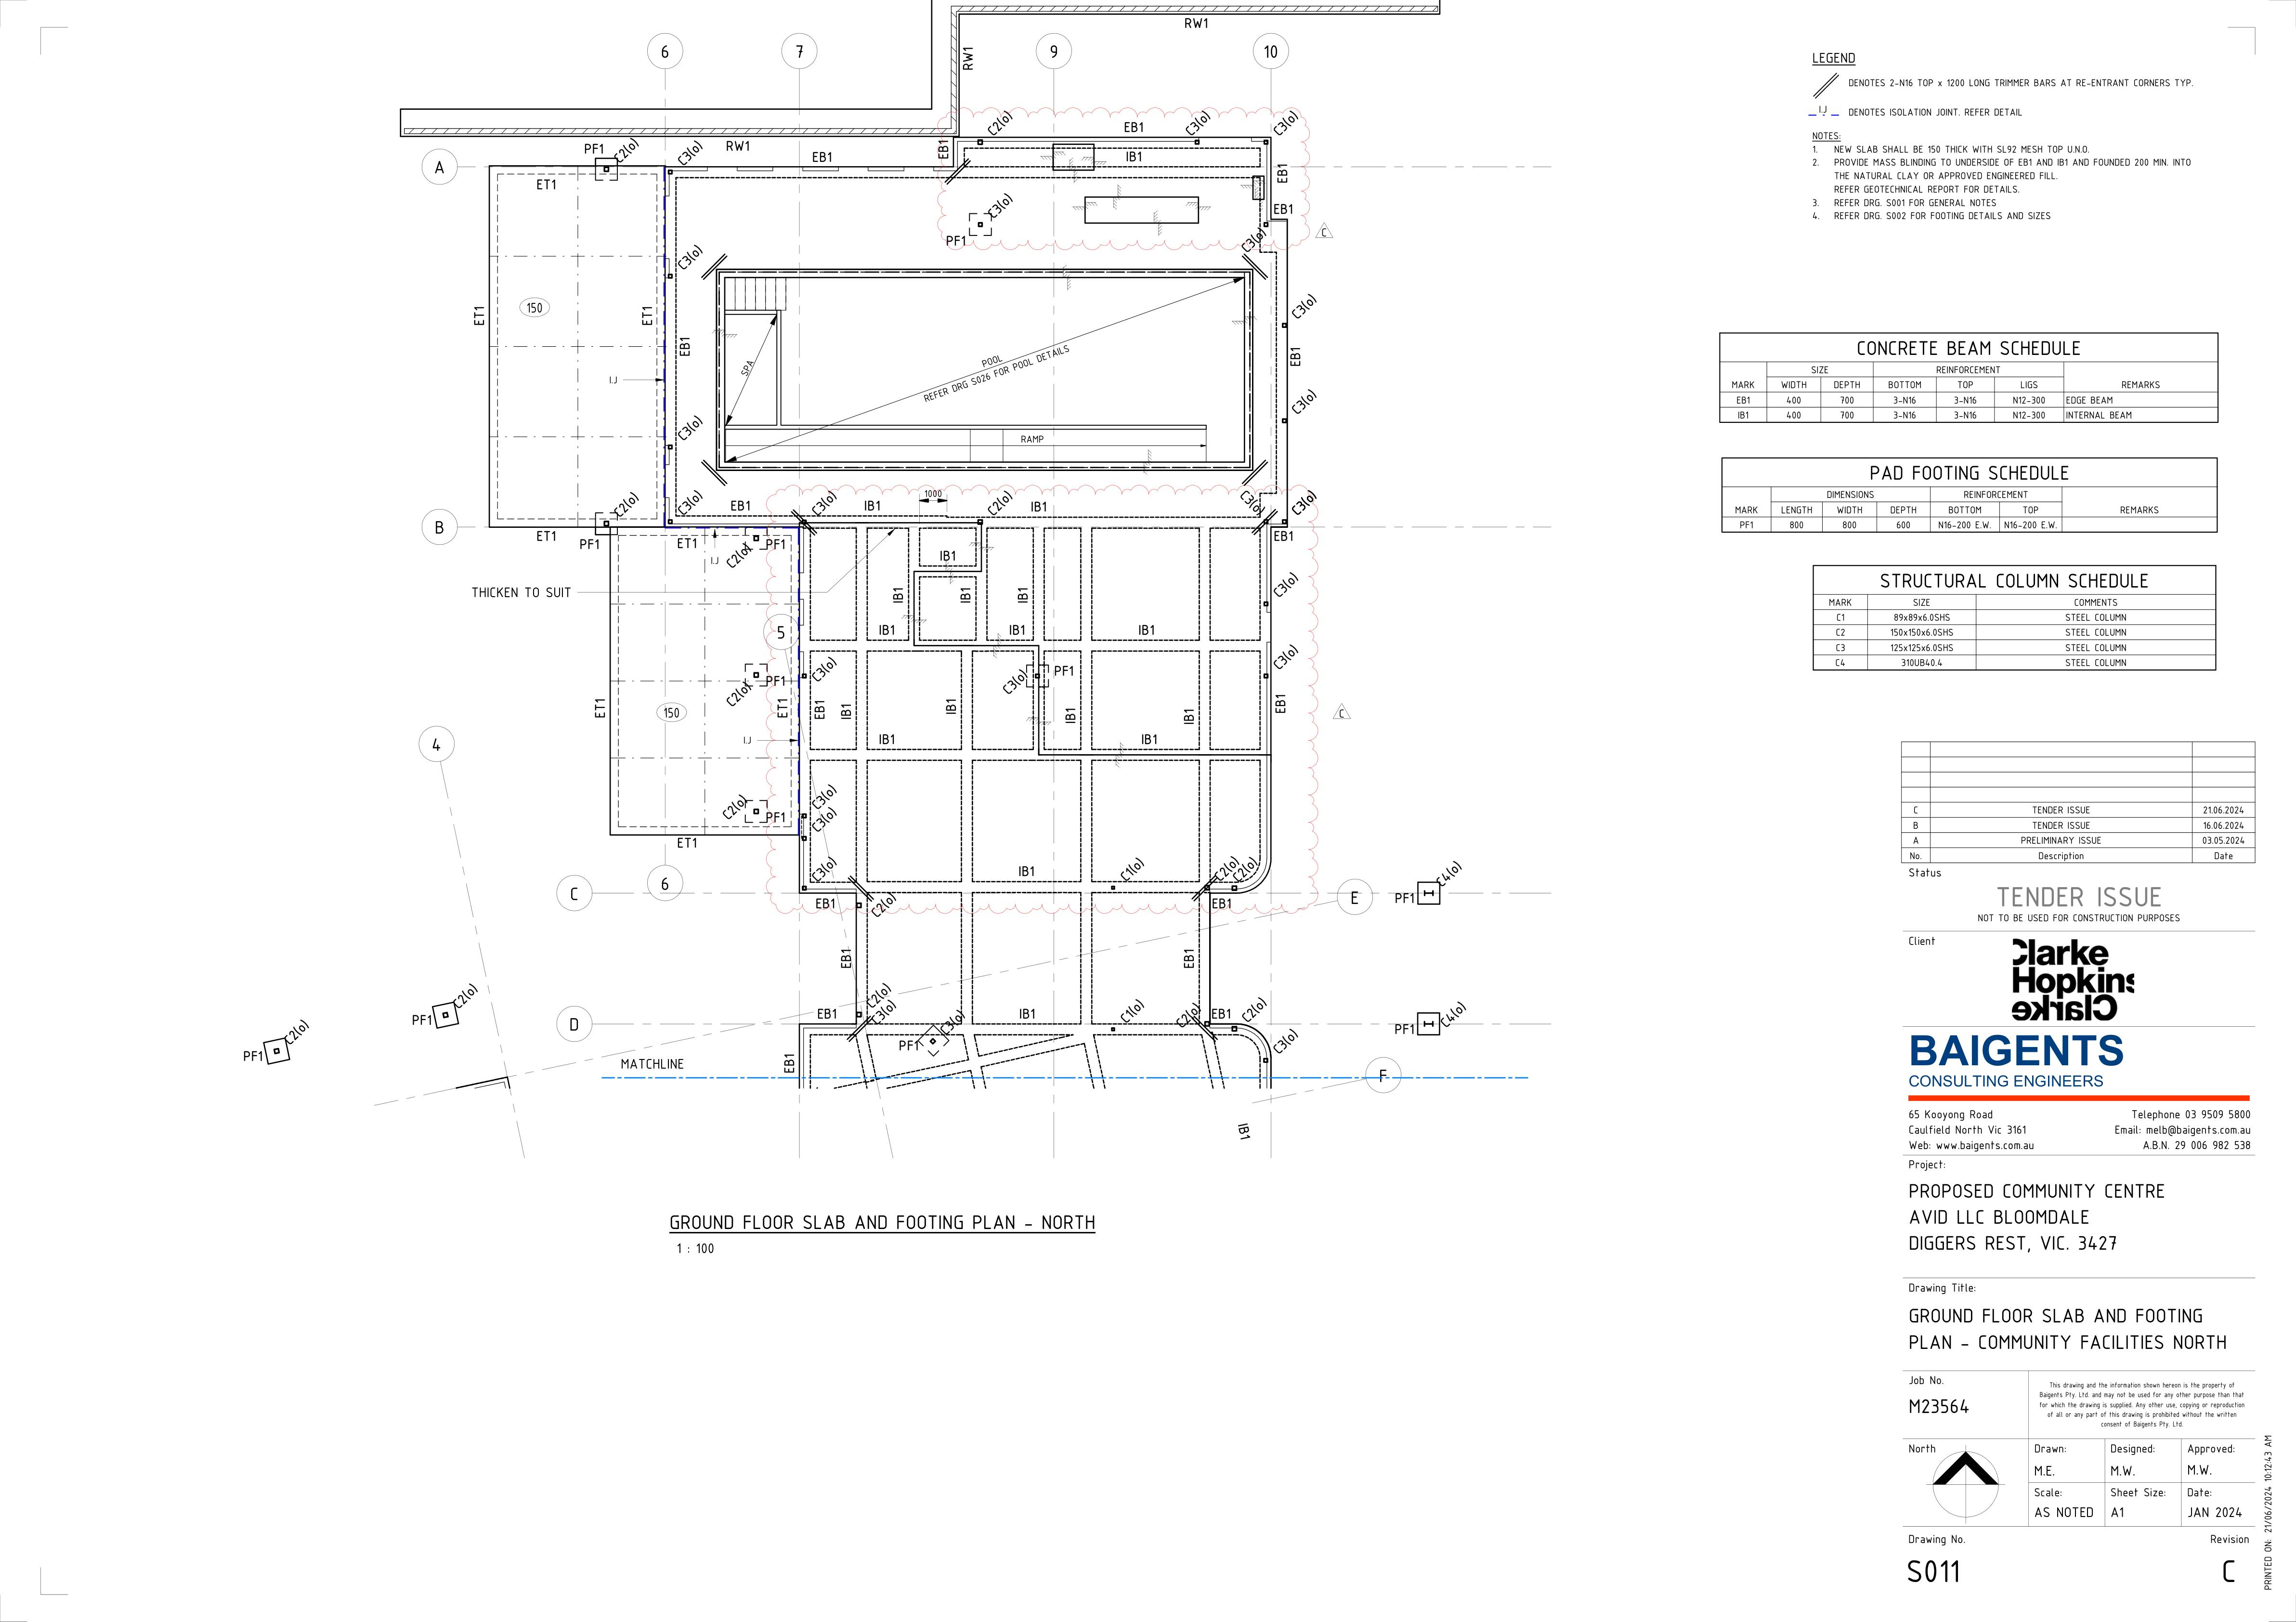EB1: (771, 1050, 807, 1078), (1120, 111, 1153, 137), (806, 144, 841, 169), (1274, 158, 1299, 191), (814, 1004, 851, 1025), (672, 332, 699, 360), (837, 943, 860, 974), (723, 495, 755, 516), (932, 135, 955, 163), (1178, 943, 1201, 969), (811, 699, 832, 727), (1206, 894, 1236, 913), (1209, 1004, 1236, 1023), (813, 894, 839, 911), (1273, 200, 1299, 218), (1288, 344, 1308, 367), (1273, 692, 1290, 716), (1276, 528, 1299, 544)
ET1: (527, 170, 570, 200), (634, 295, 657, 332), (590, 690, 613, 723), (462, 304, 488, 330), (530, 527, 562, 548), (771, 695, 795, 720), (669, 537, 709, 551), (674, 832, 702, 851)
IB1: (1011, 858, 1043, 883), (1136, 730, 1169, 751), (1134, 616, 1164, 639), (1176, 702, 1201, 728), (857, 497, 888, 516), (1015, 1004, 1046, 1023), (937, 542, 962, 565), (888, 585, 913, 606), (1122, 147, 1148, 167), (878, 621, 904, 641), (878, 728, 904, 748), (1060, 706, 1081, 728), (1013, 585, 1034, 606), (839, 700, 857, 725), (1030, 497, 1053, 514), (941, 693, 955, 720), (962, 586, 978, 606)
PF1: (404, 1008, 437, 1030), (764, 807, 795, 827), (232, 1048, 265, 1066), (1053, 658, 1078, 681), (758, 535, 790, 553), (578, 535, 606, 555), (765, 671, 793, 690), (941, 233, 971, 251), (1392, 1018, 1417, 1039), (583, 140, 607, 160), (1392, 888, 1417, 908), (899, 1037, 923, 1057)
